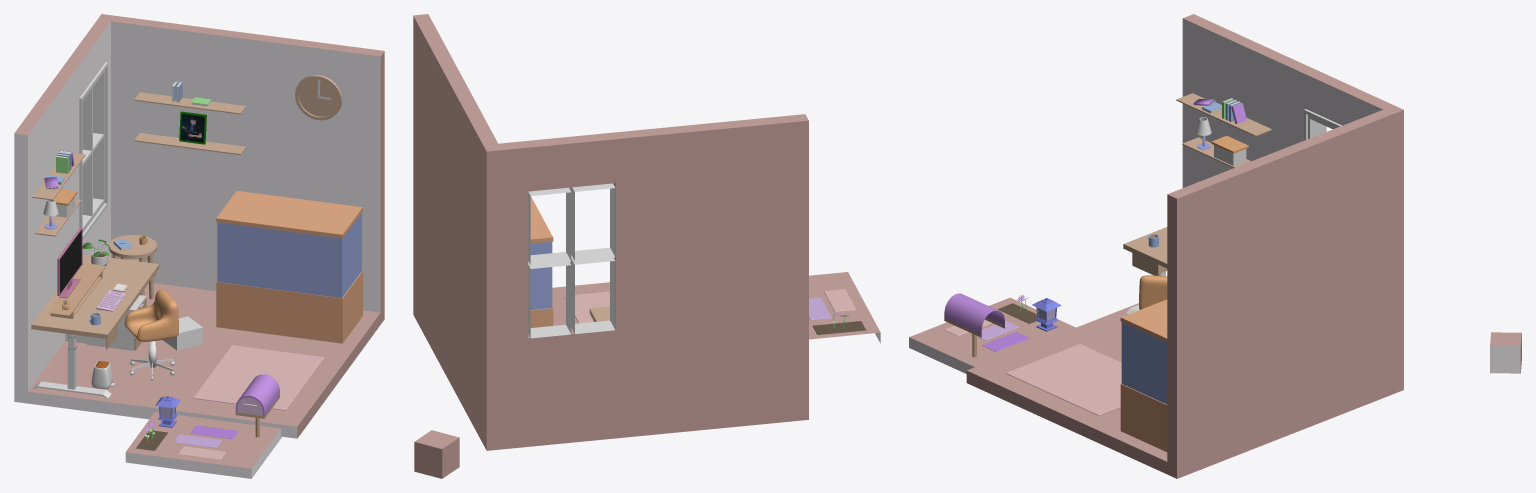
File: Finale Version 16.glb
The picture shows the model from 3 angles, left to right: view 1: azimuth 30°, elevation 25°; view 2: azimuth 150°, elevation 25°; view 3: azimuth 270°, elevation 25°; orthographic projection. The views are drawn at different scales.
Parts seen in each view (by area): view 1: Body, Aquarium, Desks, Floor Items, Mini Floor, Shelves, Table Stuff, Chair, Clock, Mailbox, Computer, Cube (+5 smaller); view 2: Body, Mini Floor, Aquarium, Cube.001, Floor Items, Dirt, FloorThird; view 3: Body, Aquarium, Floor Items, Mini Floor, Shelves, Mailbox, Desks, Cube.001, Chair, Lamp.
Boxes of the visible parts, x1,y1,x2,y2 form: Body: (14, 14, 384, 438); Aquarium: (216, 190, 362, 343); Desks: (31, 235, 159, 398); Floor Items: (87, 295, 324, 410); Mini Floor: (125, 412, 281, 478); Shelves: (32, 81, 246, 236); Table Stuff: (48, 236, 147, 325); Chair: (124, 289, 178, 341); Clock: (295, 75, 342, 120); Mailbox: (235, 374, 279, 437); Computer: (57, 227, 82, 298); Cube: (163, 316, 203, 350); Body: (413, 14, 808, 450); Mini Floor: (809, 272, 880, 343); Aquarium: (530, 196, 553, 327); Cube.001: (414, 430, 459, 478); Floor Items: (564, 291, 609, 323); Dirt: (812, 321, 865, 334); FloorThird: (824, 289, 856, 311); Body: (966, 14, 1403, 478); Aquarium: (1120, 299, 1167, 451); Floor Items: (1006, 344, 1121, 415); Mini Floor: (909, 297, 1075, 373); Shelves: (1176, 93, 1271, 167); Mailbox: (944, 293, 1004, 357); Desks: (1123, 227, 1167, 313); Cube.001: (1490, 332, 1521, 373); Chair: (1139, 275, 1167, 309); Lamp: (1032, 298, 1061, 331).
Size of the model in its own units: 27.58 by 19.65 by 38.64.
Materials: 43 (1 with a texture image).
